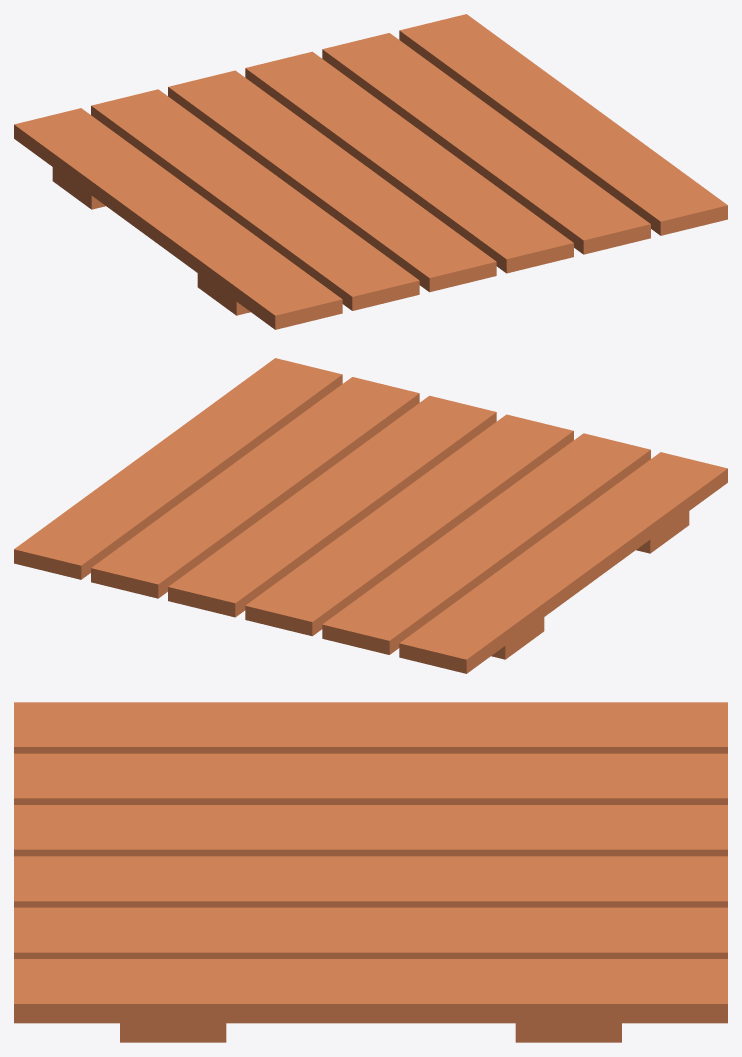
File: planks.fbx
The picture shows the model from 3 angles, top to bottom: view 1: azimuth 30°, elevation 25°; view 2: azimuth 150°, elevation 25°; view 3: azimuth 270°, elevation 25°; orthographic projection. The views are drawn at different scales.
Parts seen in each view (by area): view 1: planks; view 2: planks; view 3: planks.
Boxes of the visible parts, box(x1,y1,x2,y2) form: planks: box(14, 14, 727, 329); planks: box(14, 358, 727, 673); planks: box(14, 702, 727, 1042).
Bounding box in the file's own units: 10 × 0.6 × 10.
